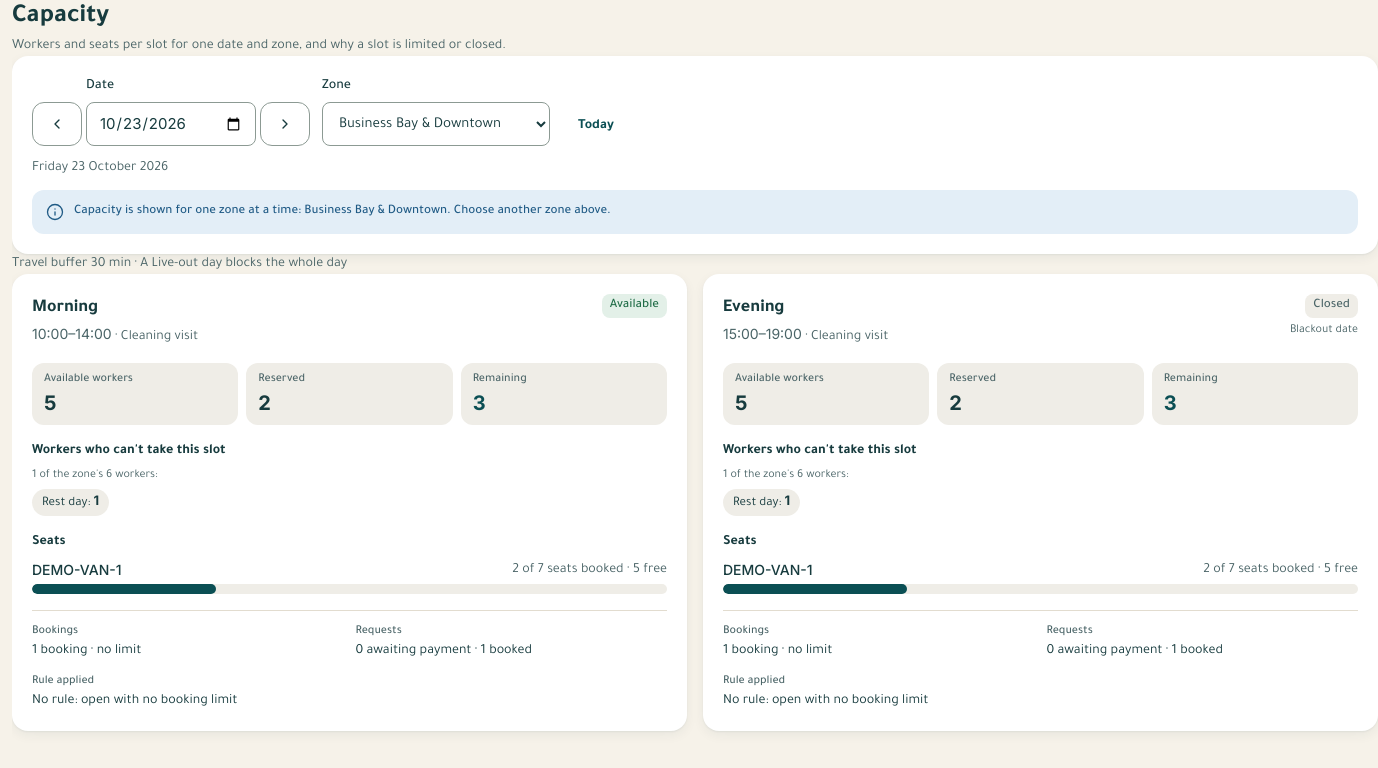
Test case: capacity view and manual override › picks the zone from every zone by name, inactive ones marked, starting on the first active one
The width and height of the screenshot is (1378, 768).
expect the text "Capacity is shown for one zone at a time: Business Bay & Downtown. Choose another zone above." is shown: met, box [74,205,611,218]
Select "Old Town (inactive)" in the dropdown labelled "Zone" at [436, 124], box [322,102,550,146]
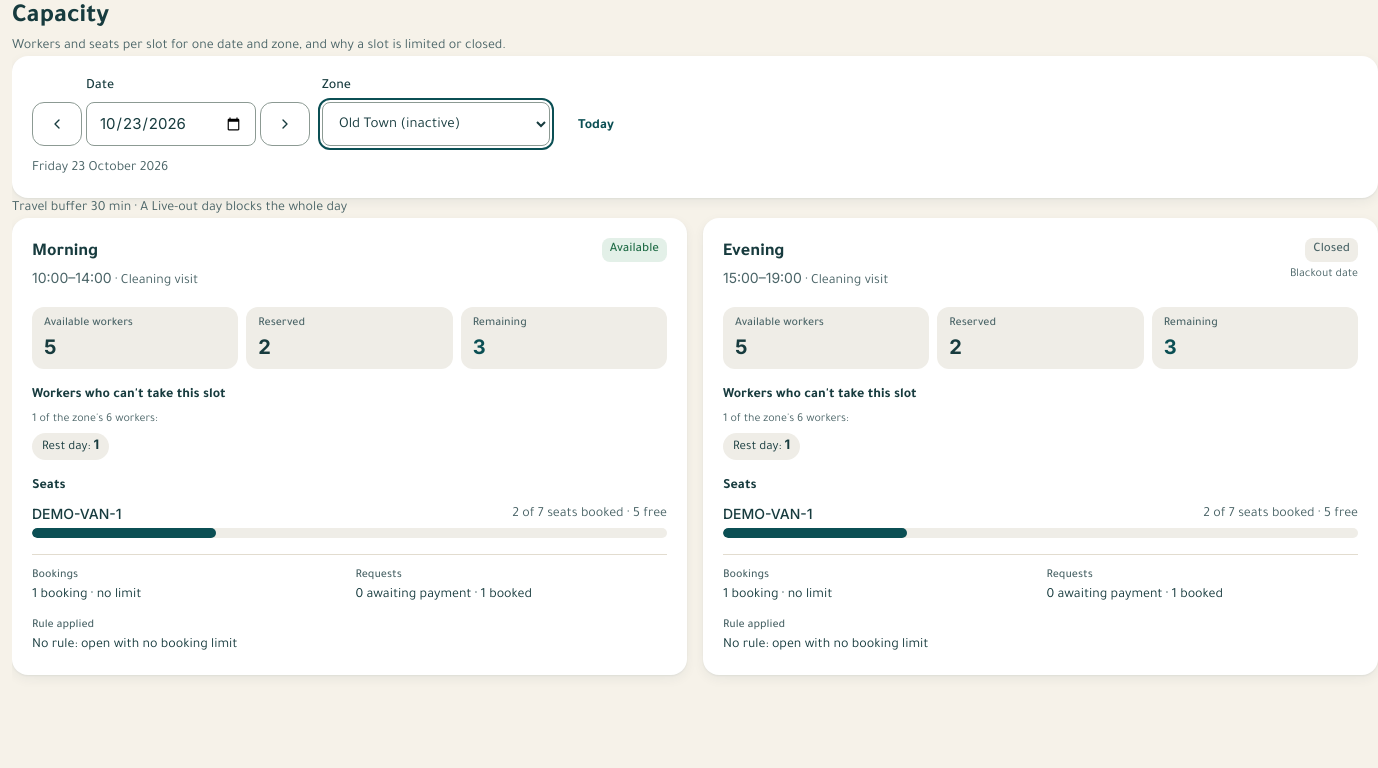
expect the text "Capacity is shown for one zone at a time" is gone: met
